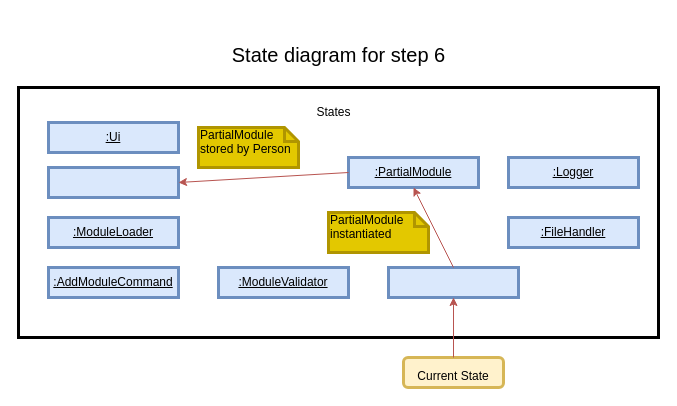
This 677x406 diagram has some shape labels left out. The shapes that lost their labels are listed below. From the top down, each one's centre as x and y in pixels, then its label:
point 113,182: :Person
point 453,282: :AddUtils
